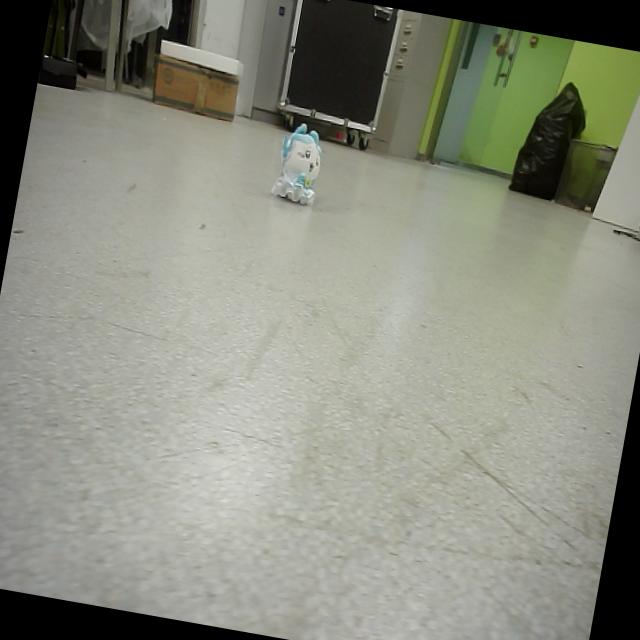xiaoba: (266, 117, 328, 209)
